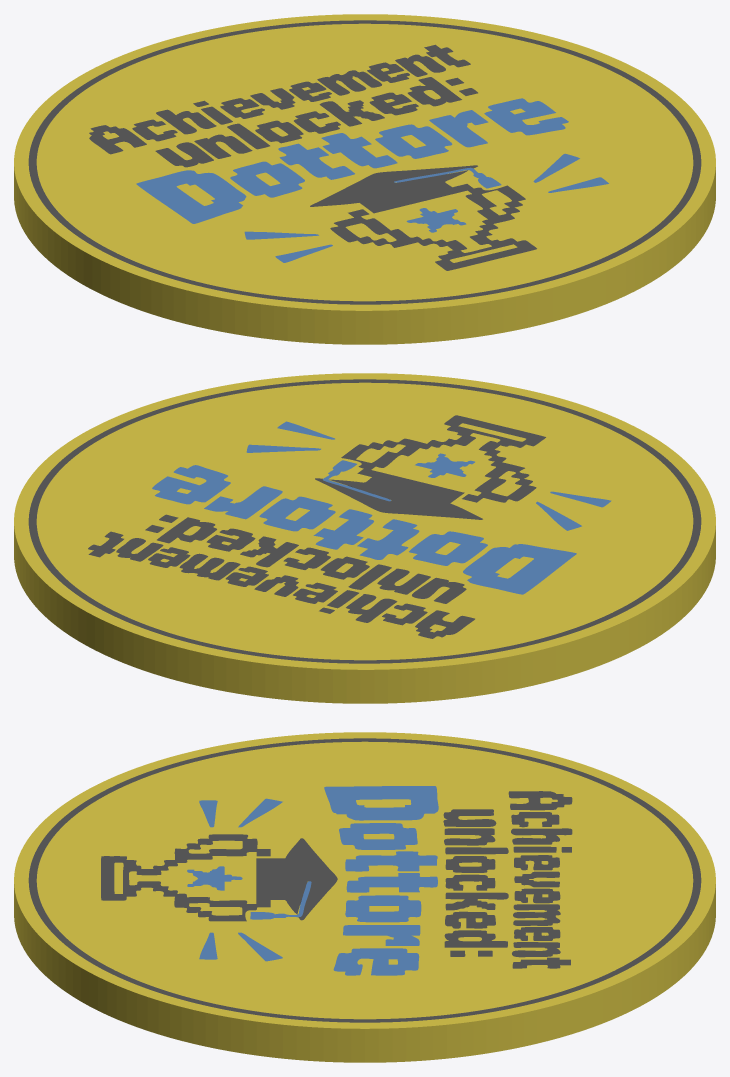
File: sottobicchiere-achievement-dottore.glb
3 renders of one model, top to bottom at view 1: azimuth 30°, elevation 25°; view 2: azimuth 150°, elevation 25°; view 3: azimuth 270°, elevation 25°, orthographic.
Parts seen in each view (by area): view 1: coaster_base, coaster_ink, coaster_accent; view 2: coaster_base, coaster_ink, coaster_accent; view 3: coaster_base, coaster_ink, coaster_accent.
Boxes of the visible parts, box(x1,y1,x2,y2) form: coaster_base: box(14, 14, 715, 344); coaster_ink: box(28, 20, 701, 304); coaster_accent: box(136, 98, 608, 262); coaster_base: box(14, 373, 715, 703); coaster_ink: box(28, 379, 701, 663); coaster_accent: box(152, 421, 611, 594); coaster_base: box(14, 732, 715, 1062); coaster_ink: box(28, 738, 701, 1022); coaster_accent: box(187, 786, 438, 975).
Bounding box in the file's own units: 0.075 × 0.004 × 0.075.
